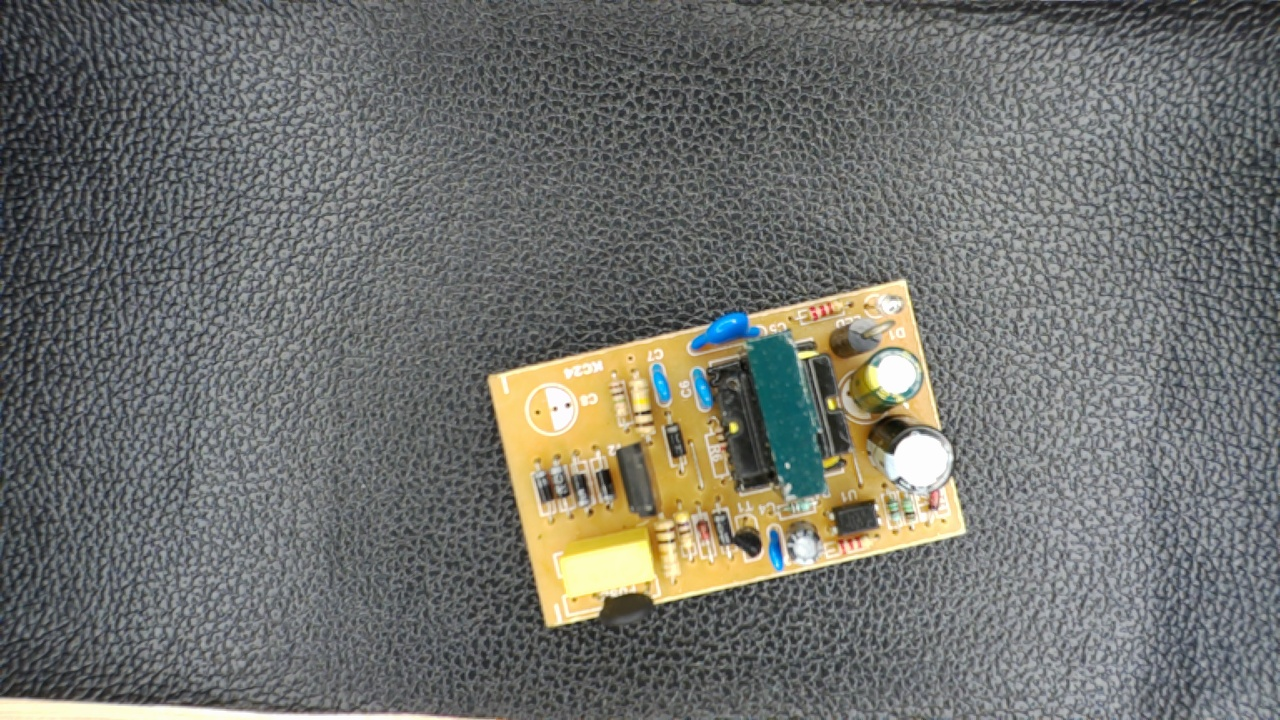fuse: (582, 587, 662, 633)
mov: (684, 311, 767, 357)
optocoupler: (825, 494, 884, 540)
